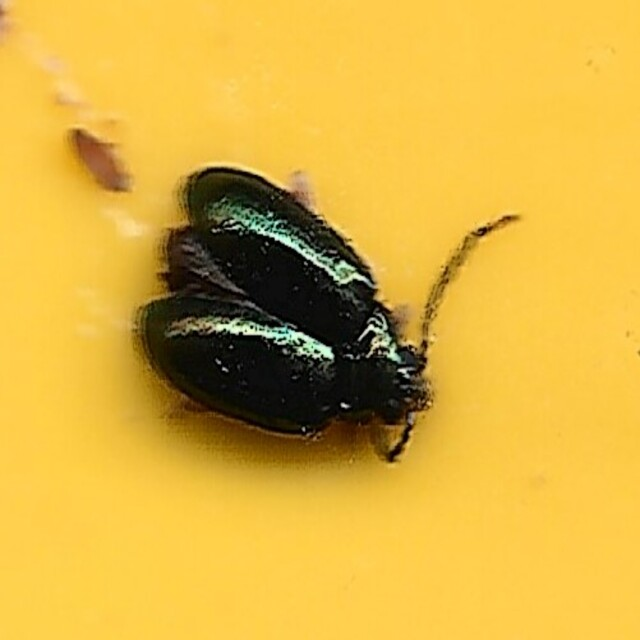Coleoptera: (128, 160, 512, 480)
